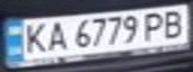6: (69, 16, 93, 50)
7: (106, 12, 127, 46), (87, 15, 109, 47)
9: (121, 12, 145, 45)
A: (42, 18, 69, 52)
B: (157, 7, 190, 39)
K: (18, 20, 51, 55)
P: (139, 9, 172, 42)
